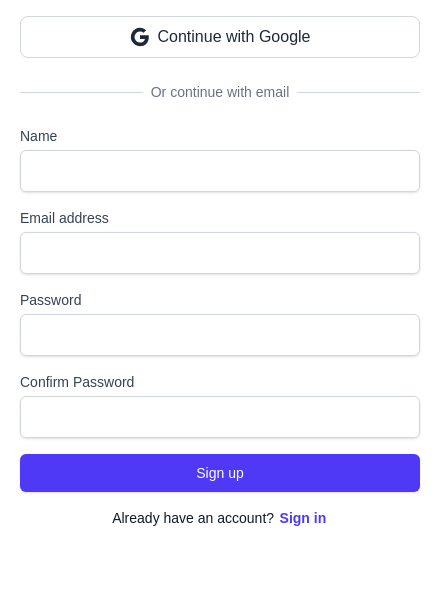
it: AuthForm Component › Signup Mode › validates passwords match before submission
This screenshot has width=441, height=611.
# Fill in the form with mismatched passwords
Type "Test User" into the field labelled "Name".
click(220, 171); type("Test User")  # box [20,150,420,192]
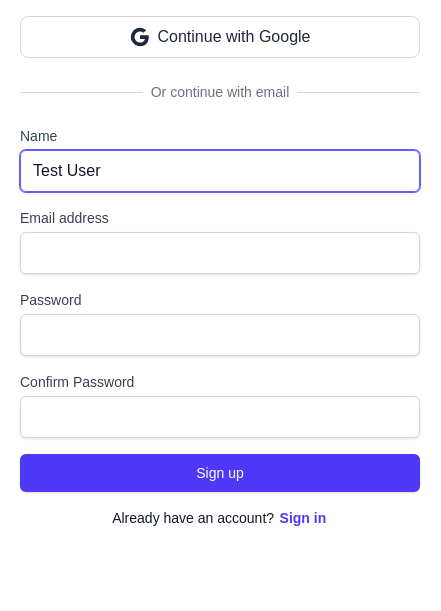
Type "test@example.com" into the field labelled "Email address".
click(220, 253); type("test@example.com")  # box [20,232,420,274]
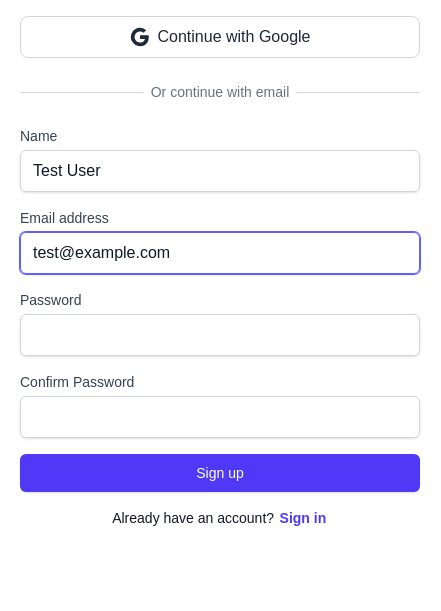
Type "password123" into the password field labelled "Password".
click(220, 335); type("password123")  # box [20,314,420,356]
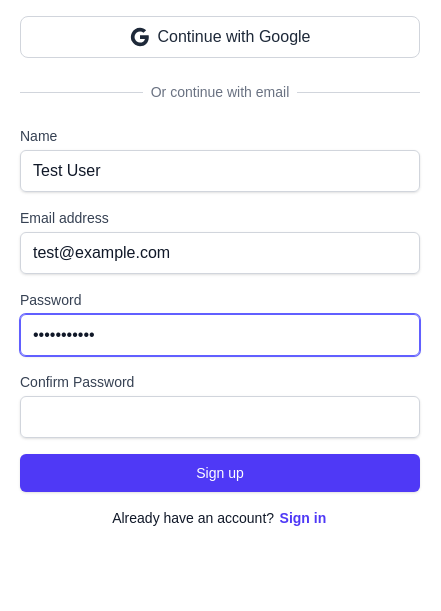
Type "different123" into the password field labelled "Confirm Password".
click(220, 417); type("different123")  # box [20,396,420,438]
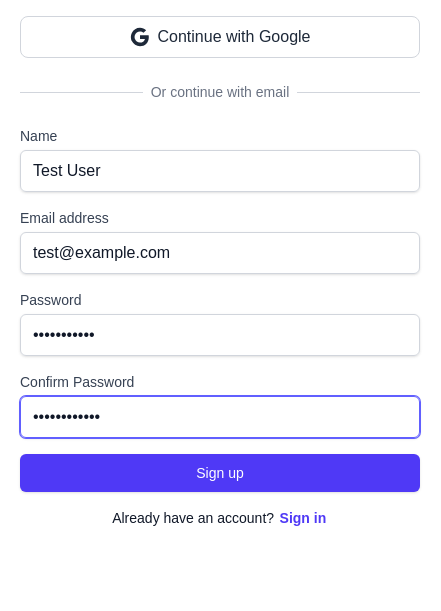
# Submit the form
Click the button "Sign up".
click(220, 473)  # box [20,454,420,492]
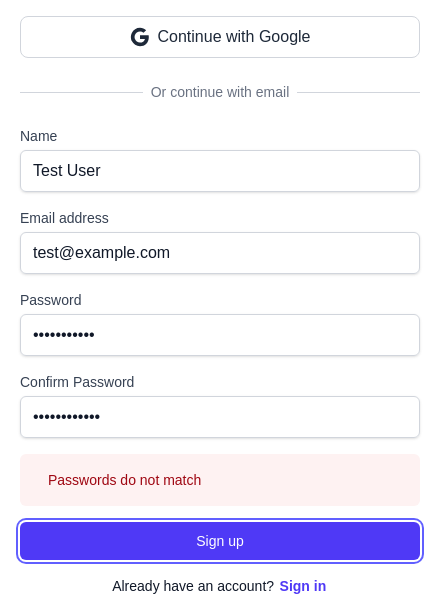
expect the text "Passwords do not match" is shown: met, box [48,470,201,490]
